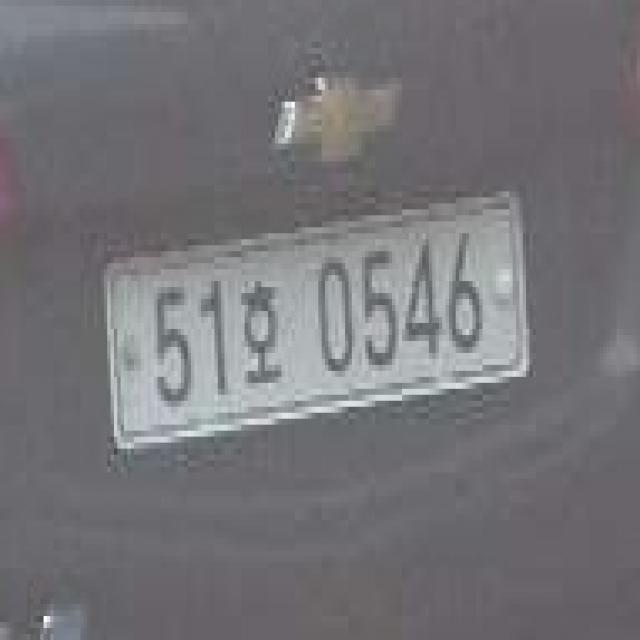0: (316, 250, 357, 384)
1: (196, 274, 230, 408)
4: (401, 234, 442, 376)
5: (152, 281, 192, 414), (363, 240, 397, 380)
6: (446, 221, 480, 366)
ho: (238, 260, 281, 408)
license_plate: (92, 166, 555, 505)
